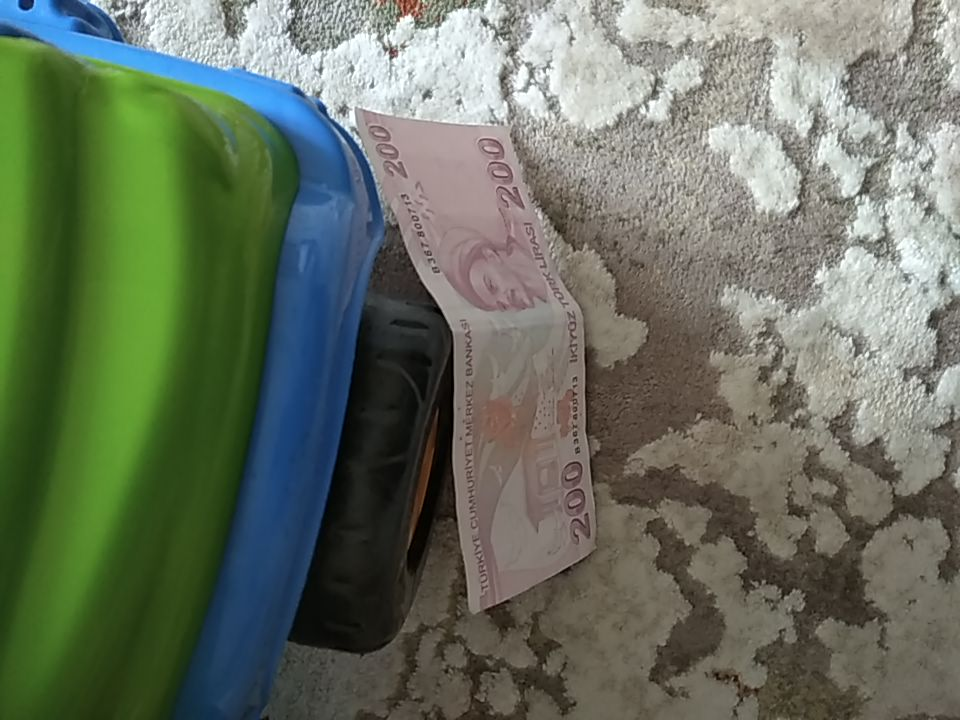200TL: (353, 104, 599, 615)
